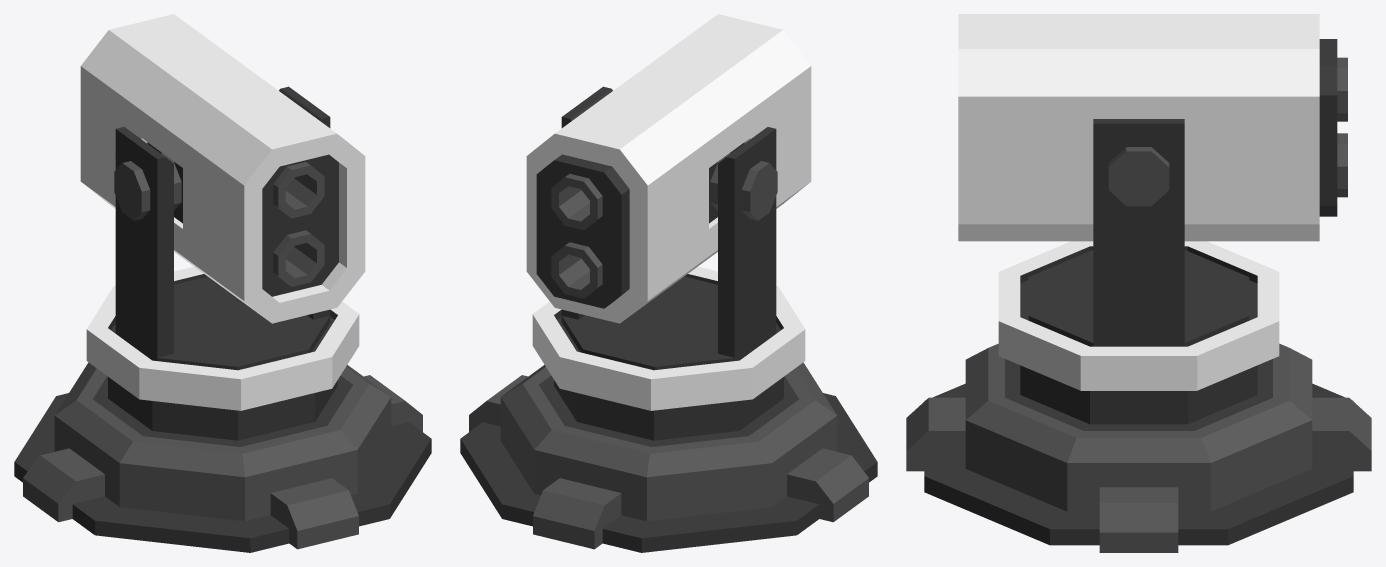
File: Rocket_1.fbx
The picture shows the model from 3 angles, left to right: view 1: azimuth 30°, elevation 25°; view 2: azimuth 150°, elevation 25°; view 3: azimuth 270°, elevation 25°; orthographic projection. The views are drawn at different scales.
Parts seen in each view (by area): view 1: Body_Mesh, Base_Mesh, Upper_Mesh; view 2: Body_Mesh, Base_Mesh, Upper_Mesh; view 3: Body_Mesh, Base_Mesh, Upper_Mesh.
Part boxes in pixels (x1=…): Body_Mesh: x1=80, y1=14, x2=365, y2=323; Base_Mesh: x1=14, y1=362, x2=431, y2=552; Upper_Mesh: x1=86, y1=86, x2=359, y2=440; Body_Mesh: x1=526, y1=14, x2=811, y2=323; Base_Mesh: x1=460, y1=362, x2=877, y2=552; Upper_Mesh: x1=532, y1=86, x2=805, y2=440; Body_Mesh: x1=958, y1=14, x2=1347, y2=241; Base_Mesh: x1=906, y1=343, x2=1371, y2=552; Upper_Mesh: x1=998, y1=119, x2=1279, y2=424.
Bounding box in the file's own units: 1.3 × 1.31 × 1.3.
